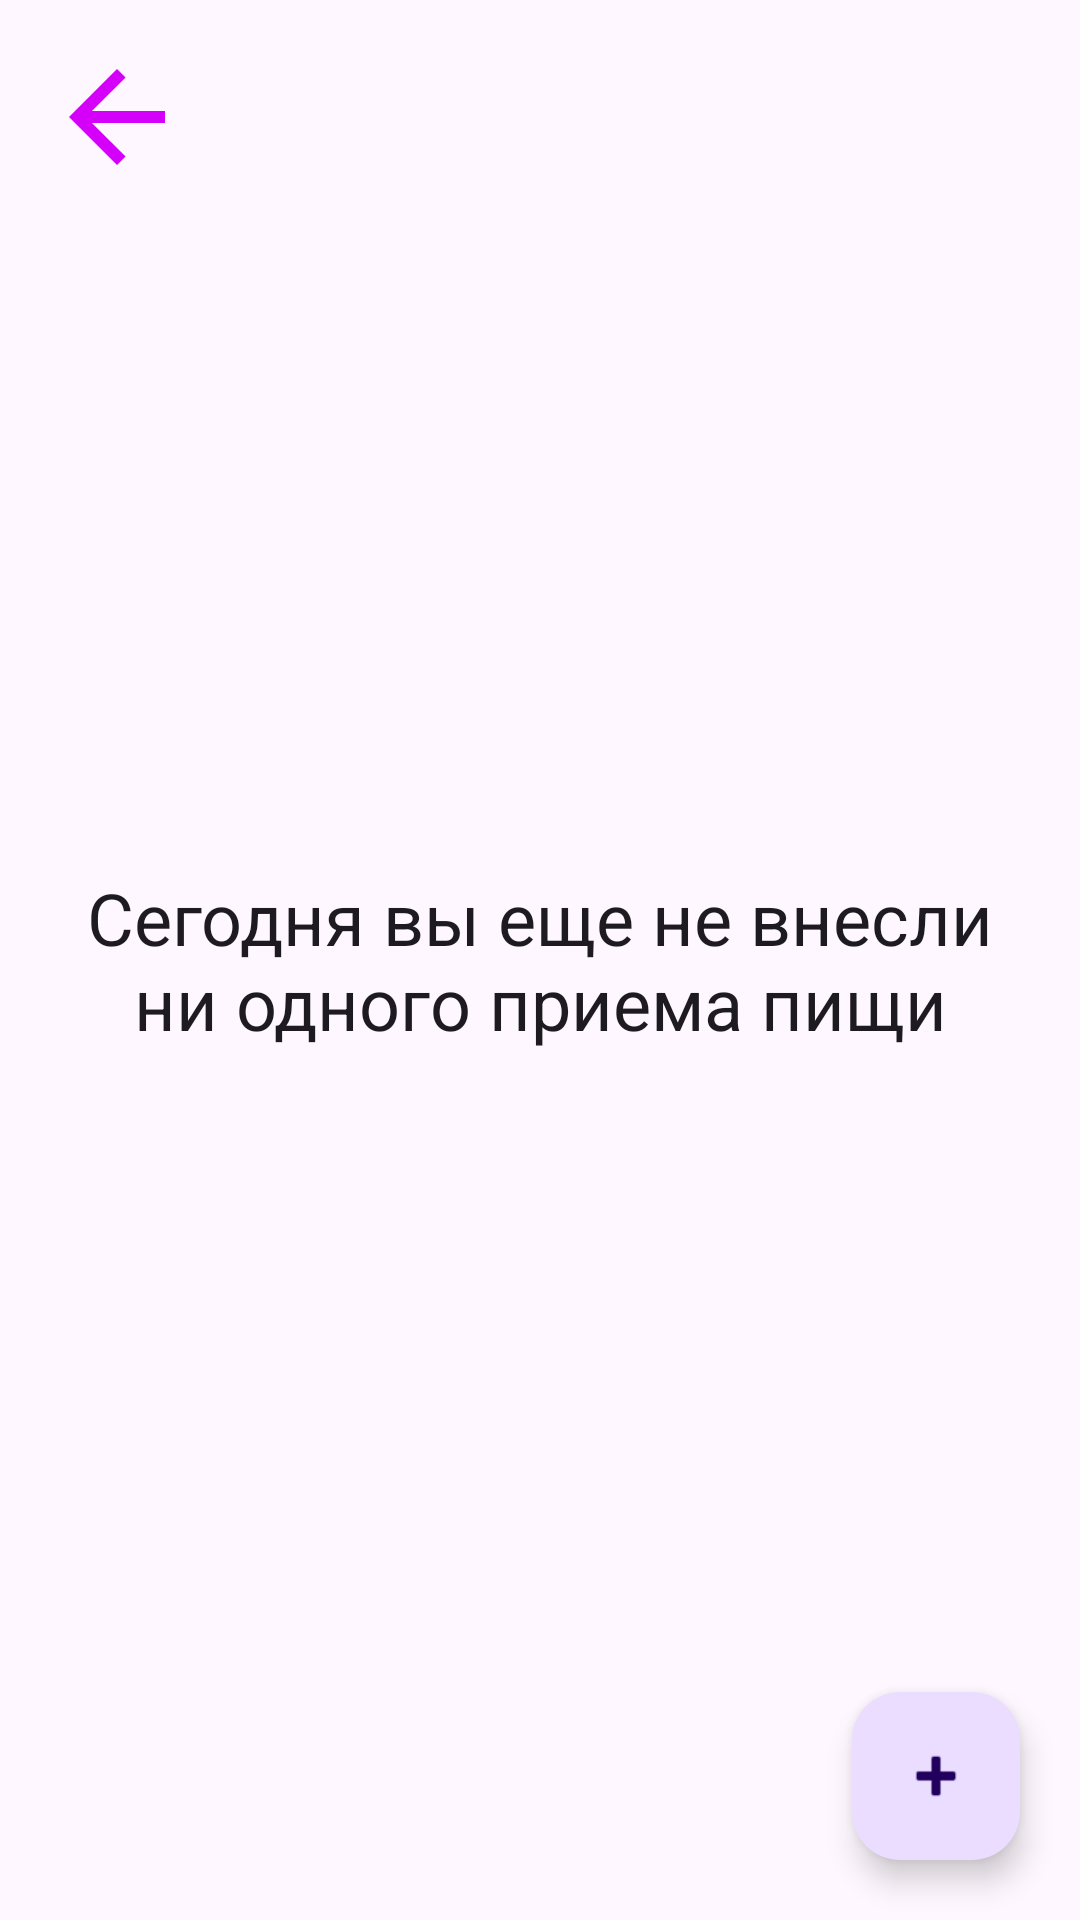

Icons on this 1080px x 1920px Android screen, each with its box as bbox(x1, y1, x2, y2):
add: bbox(852, 1692, 1020, 1860)
arrow back: bbox(69, 69, 165, 165)
